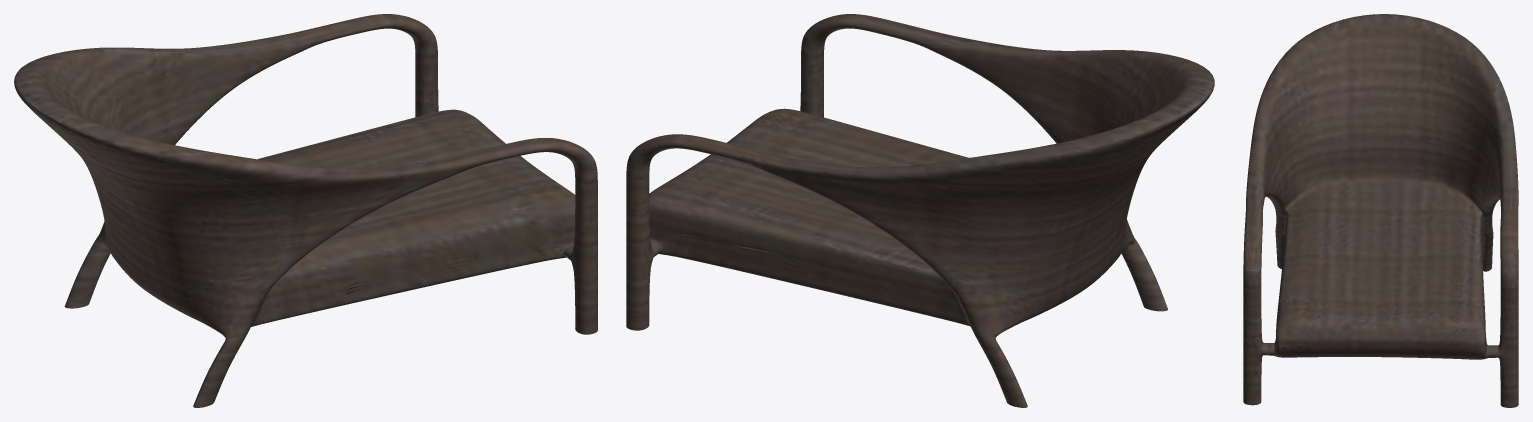
Rendered from chair_armchair_2.glb.
3 renders of one model, left to right at view 1: azimuth 30°, elevation 25°; view 2: azimuth 150°, elevation 25°; view 3: azimuth 270°, elevation 25°, orthographic. The views are drawn at different scales.
Parts seen in each view (by area): view 1: chair_armchair_2; view 2: chair_armchair_2; view 3: chair_armchair_2.
Part boxes in pixels (x1,y1,x2,y2): chair_armchair_2: [14, 14, 597, 407]; chair_armchair_2: [626, 14, 1214, 407]; chair_armchair_2: [1243, 14, 1518, 407].
Size of the model in its own units: 1.93 by 1.02 by 1.19.
1 material, 1 textured.
